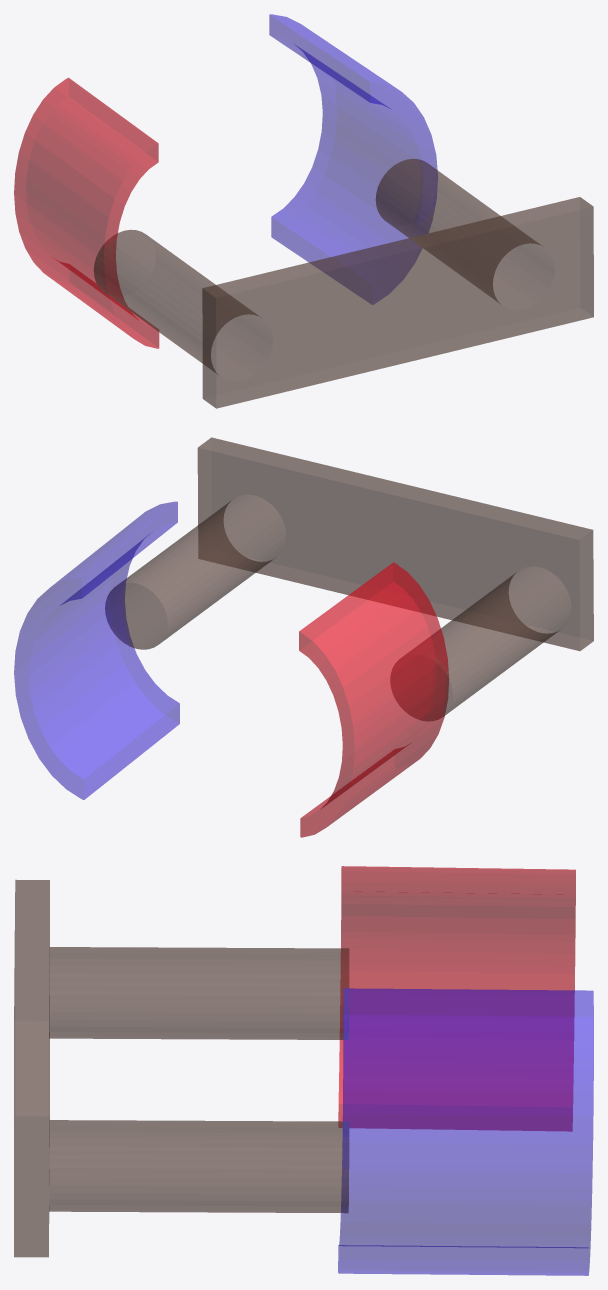
The picture shows the model from 3 angles, top to bottom: view 1: azimuth 30°, elevation 25°; view 2: azimuth 150°, elevation 25°; view 3: azimuth 270°, elevation 25°; orthographic projection. The views are drawn at different scales.
Visible parts, largest first — view 1: Cono.004; view 2: Cono.004; view 3: Cono.004.
Boxes of the visible parts, left/top/right/bottom form: Cono.004: left=14, top=14, right=593, bottom=408; Cono.004: left=14, top=437, right=593, bottom=837; Cono.004: left=14, top=866, right=593, bottom=1275.
Bounding box in the file's own units: 2.53 × 2.63 × 1.44.
